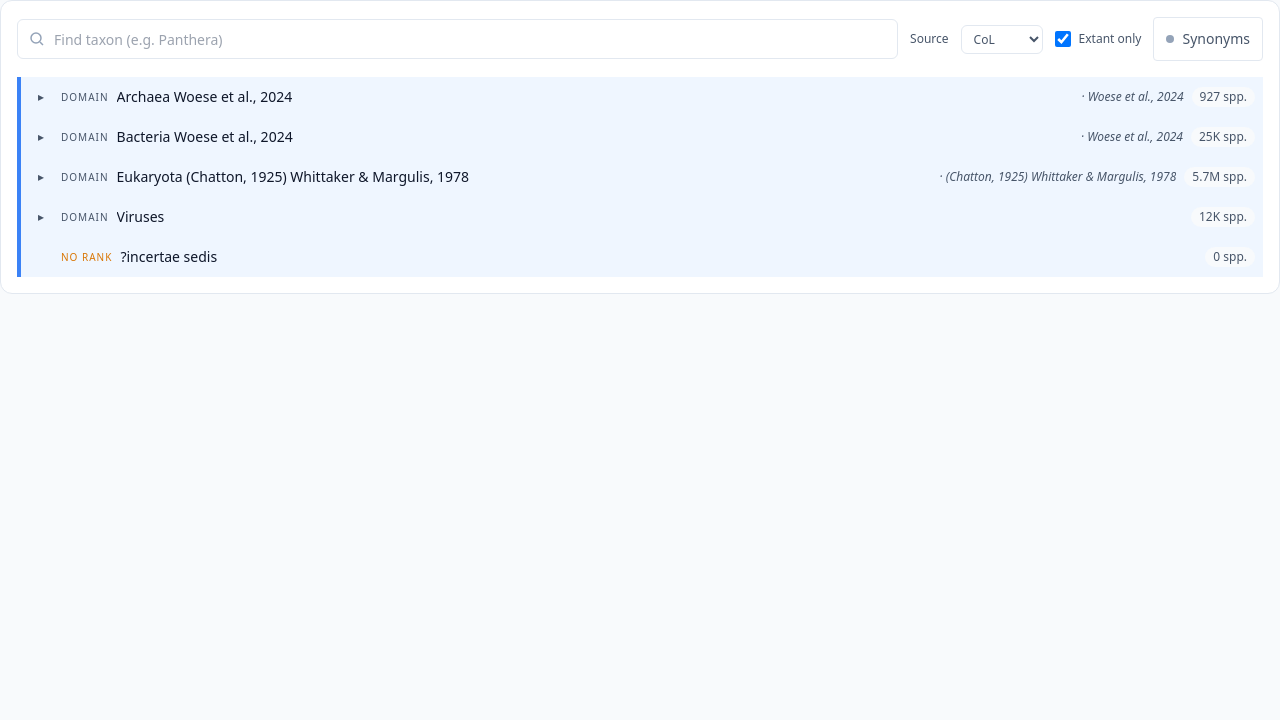
Test: TaxonomicTree tier groups › keyboard_navigation_across_tier_groups
The image size is (1280, 720).
Expected: the element named "Taxonomic tree" is shown, [17,77,1263,277]
Click the 4th button.
click(85, 177)  # box [17,157,1263,197]
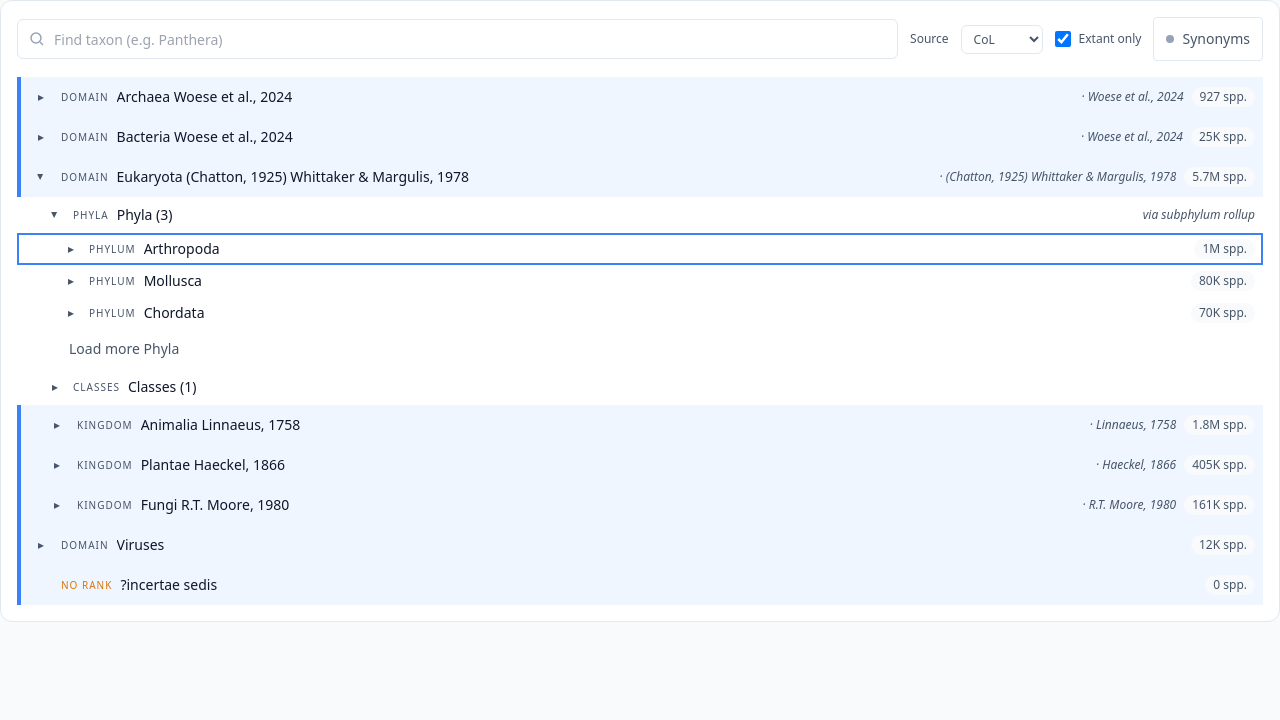
Expected: the text "Arthropoda" is shown, [144,239,220,258]
Press ArrowDown in the button "▸ phylum Arthropoda 1M spp.", box [17,233,1263,265]
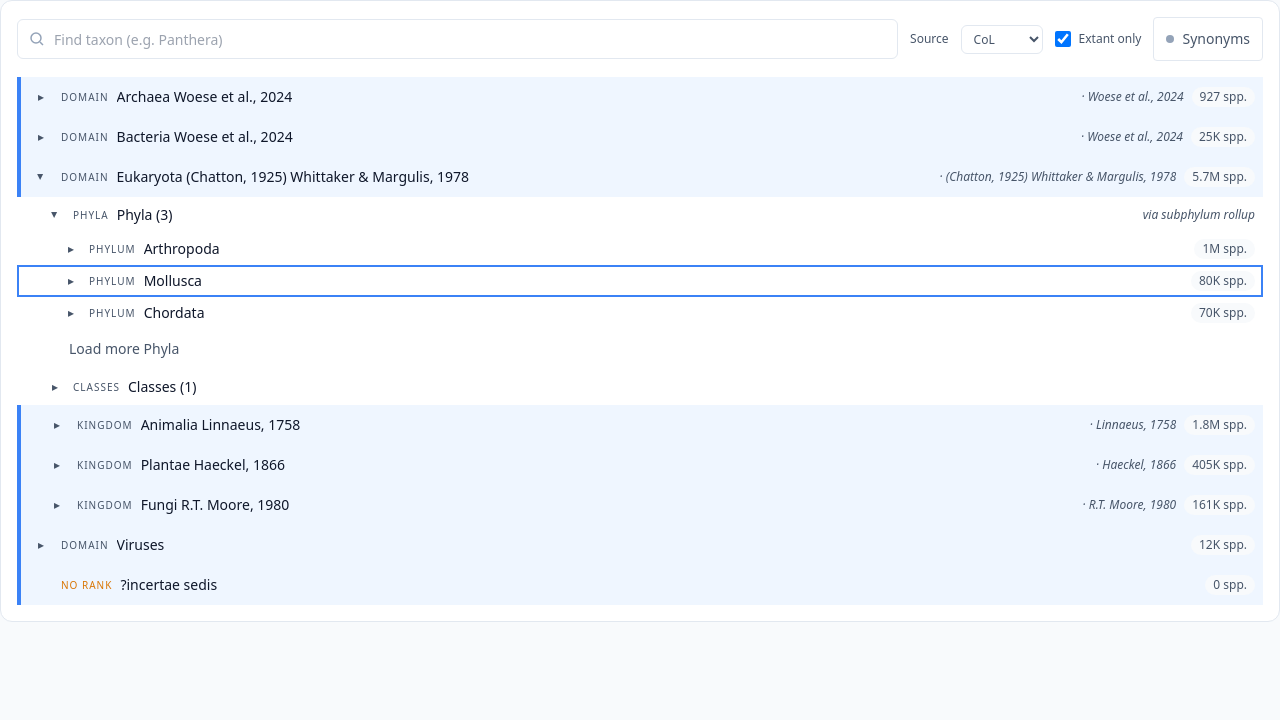
ArrowUp returns to the previous row.
Press ArrowUp in the button "▸ phylum Mollusca 80K spp.", box [17,265,1263,297]
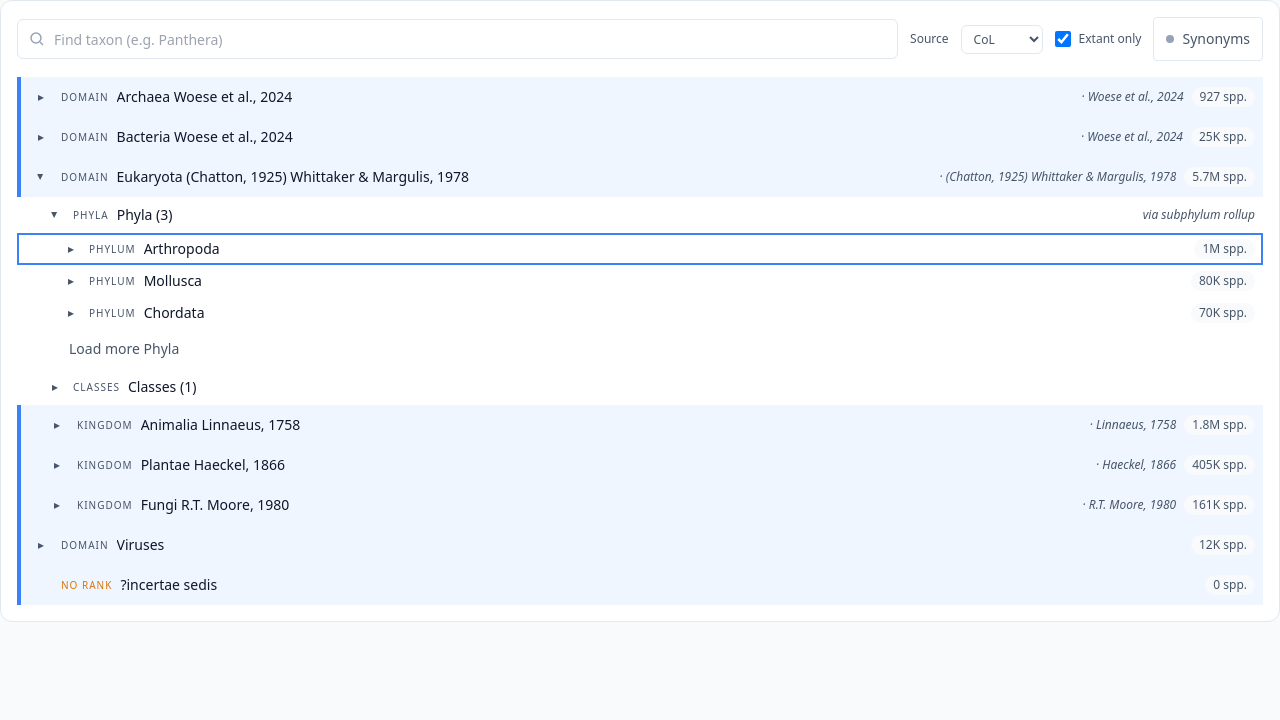
Click the button "▸ Phyla Phyla (3) via subphylum rollup".
click(91, 215)  # box [17,197,1263,233]
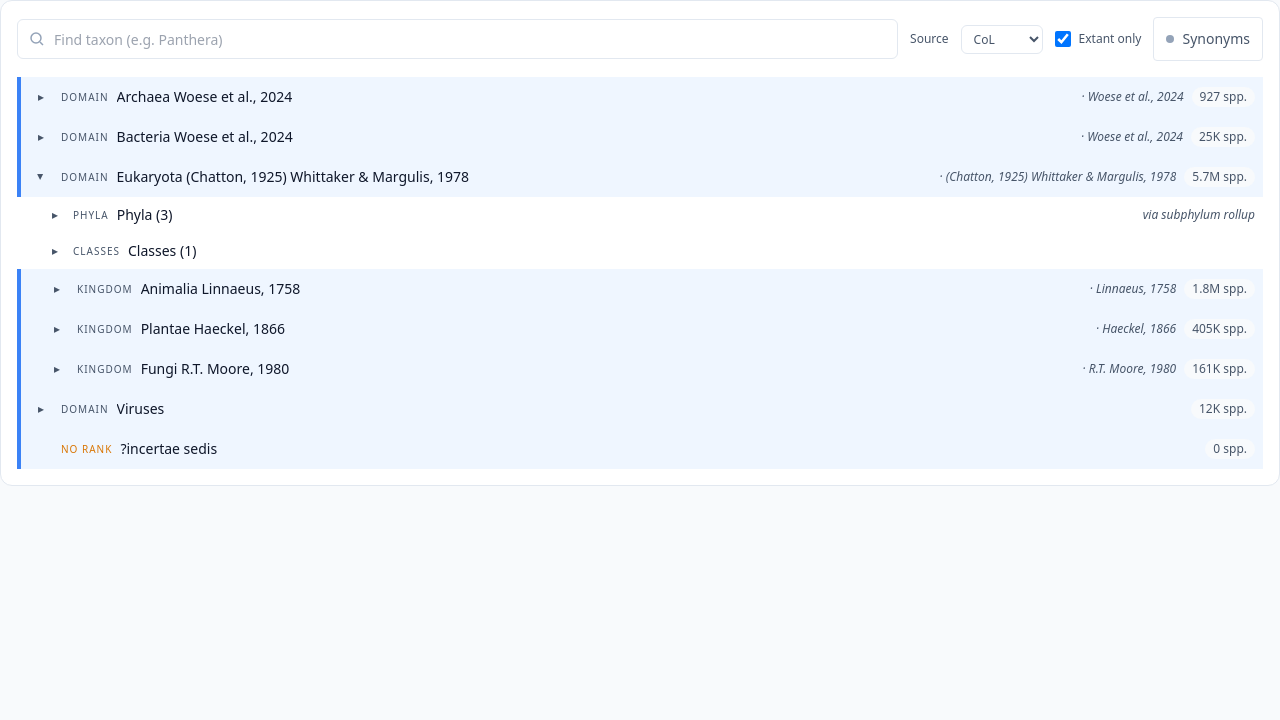
Expected: the element named "Phyla group" is collapsed
Click the button "▸ Phyla Phyla (3) via subphylum rollup".
click(91, 215)  # box [17,197,1263,233]
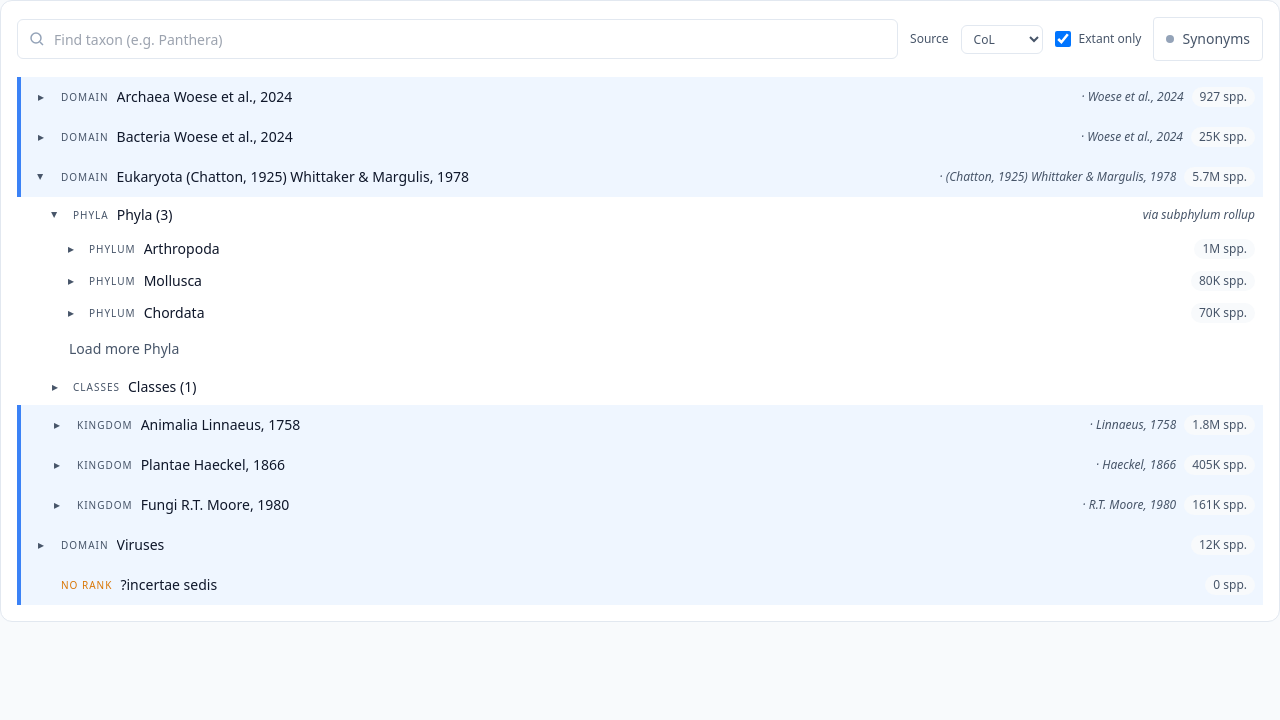
Expected: the element named "Phyla group" is expanded, [17,197,1263,369]
